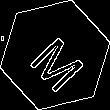M_NE: (22, 21, 88, 89)
